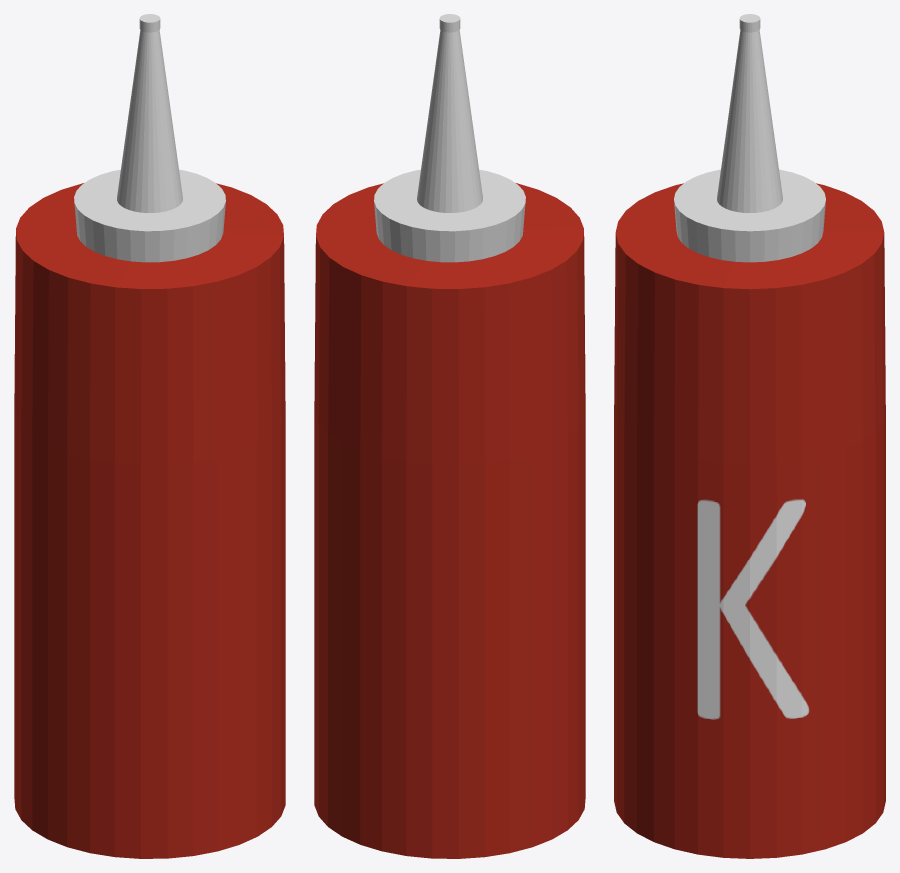
The model's file is Ketchup Bottle.fbx.
The picture shows the model from 3 angles, left to right: view 1: azimuth 30°, elevation 25°; view 2: azimuth 150°, elevation 25°; view 3: azimuth 270°, elevation 25°; orthographic projection.
Visible parts, largest first — view 1: Cylinder; view 2: Cylinder; view 3: Cylinder.
Part boxes in pixels (x1,y1,x2,y2): Cylinder: [14, 14, 285, 858]; Cylinder: [314, 14, 585, 858]; Cylinder: [614, 14, 885, 858].
Size of the model in its own units: 10 by 31.8 by 10.
